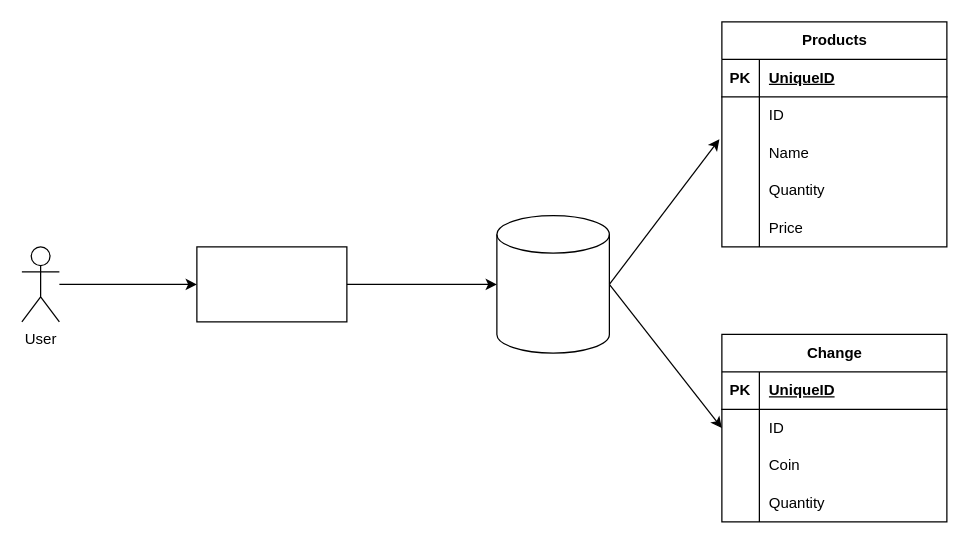
Some shapes in this 969 by 544 pixel diagram are drawn without their labels. The shapes that lost their labels are listed below. From the top down, each one's centre as x and y in pixels, then its label:
point 271,284: REST API
point 552,283: Database
